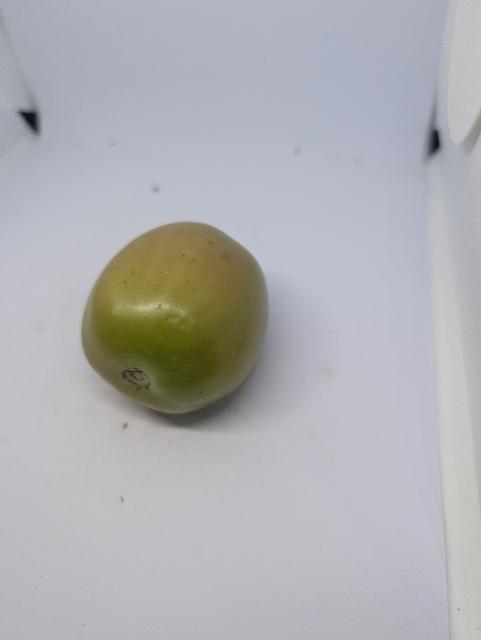breaker: (79, 220, 275, 417)
